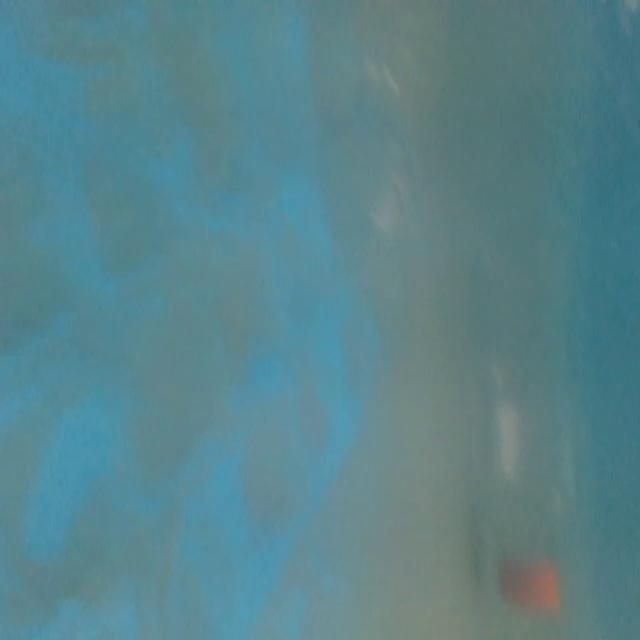plastic bottle: (471, 274, 584, 618)
